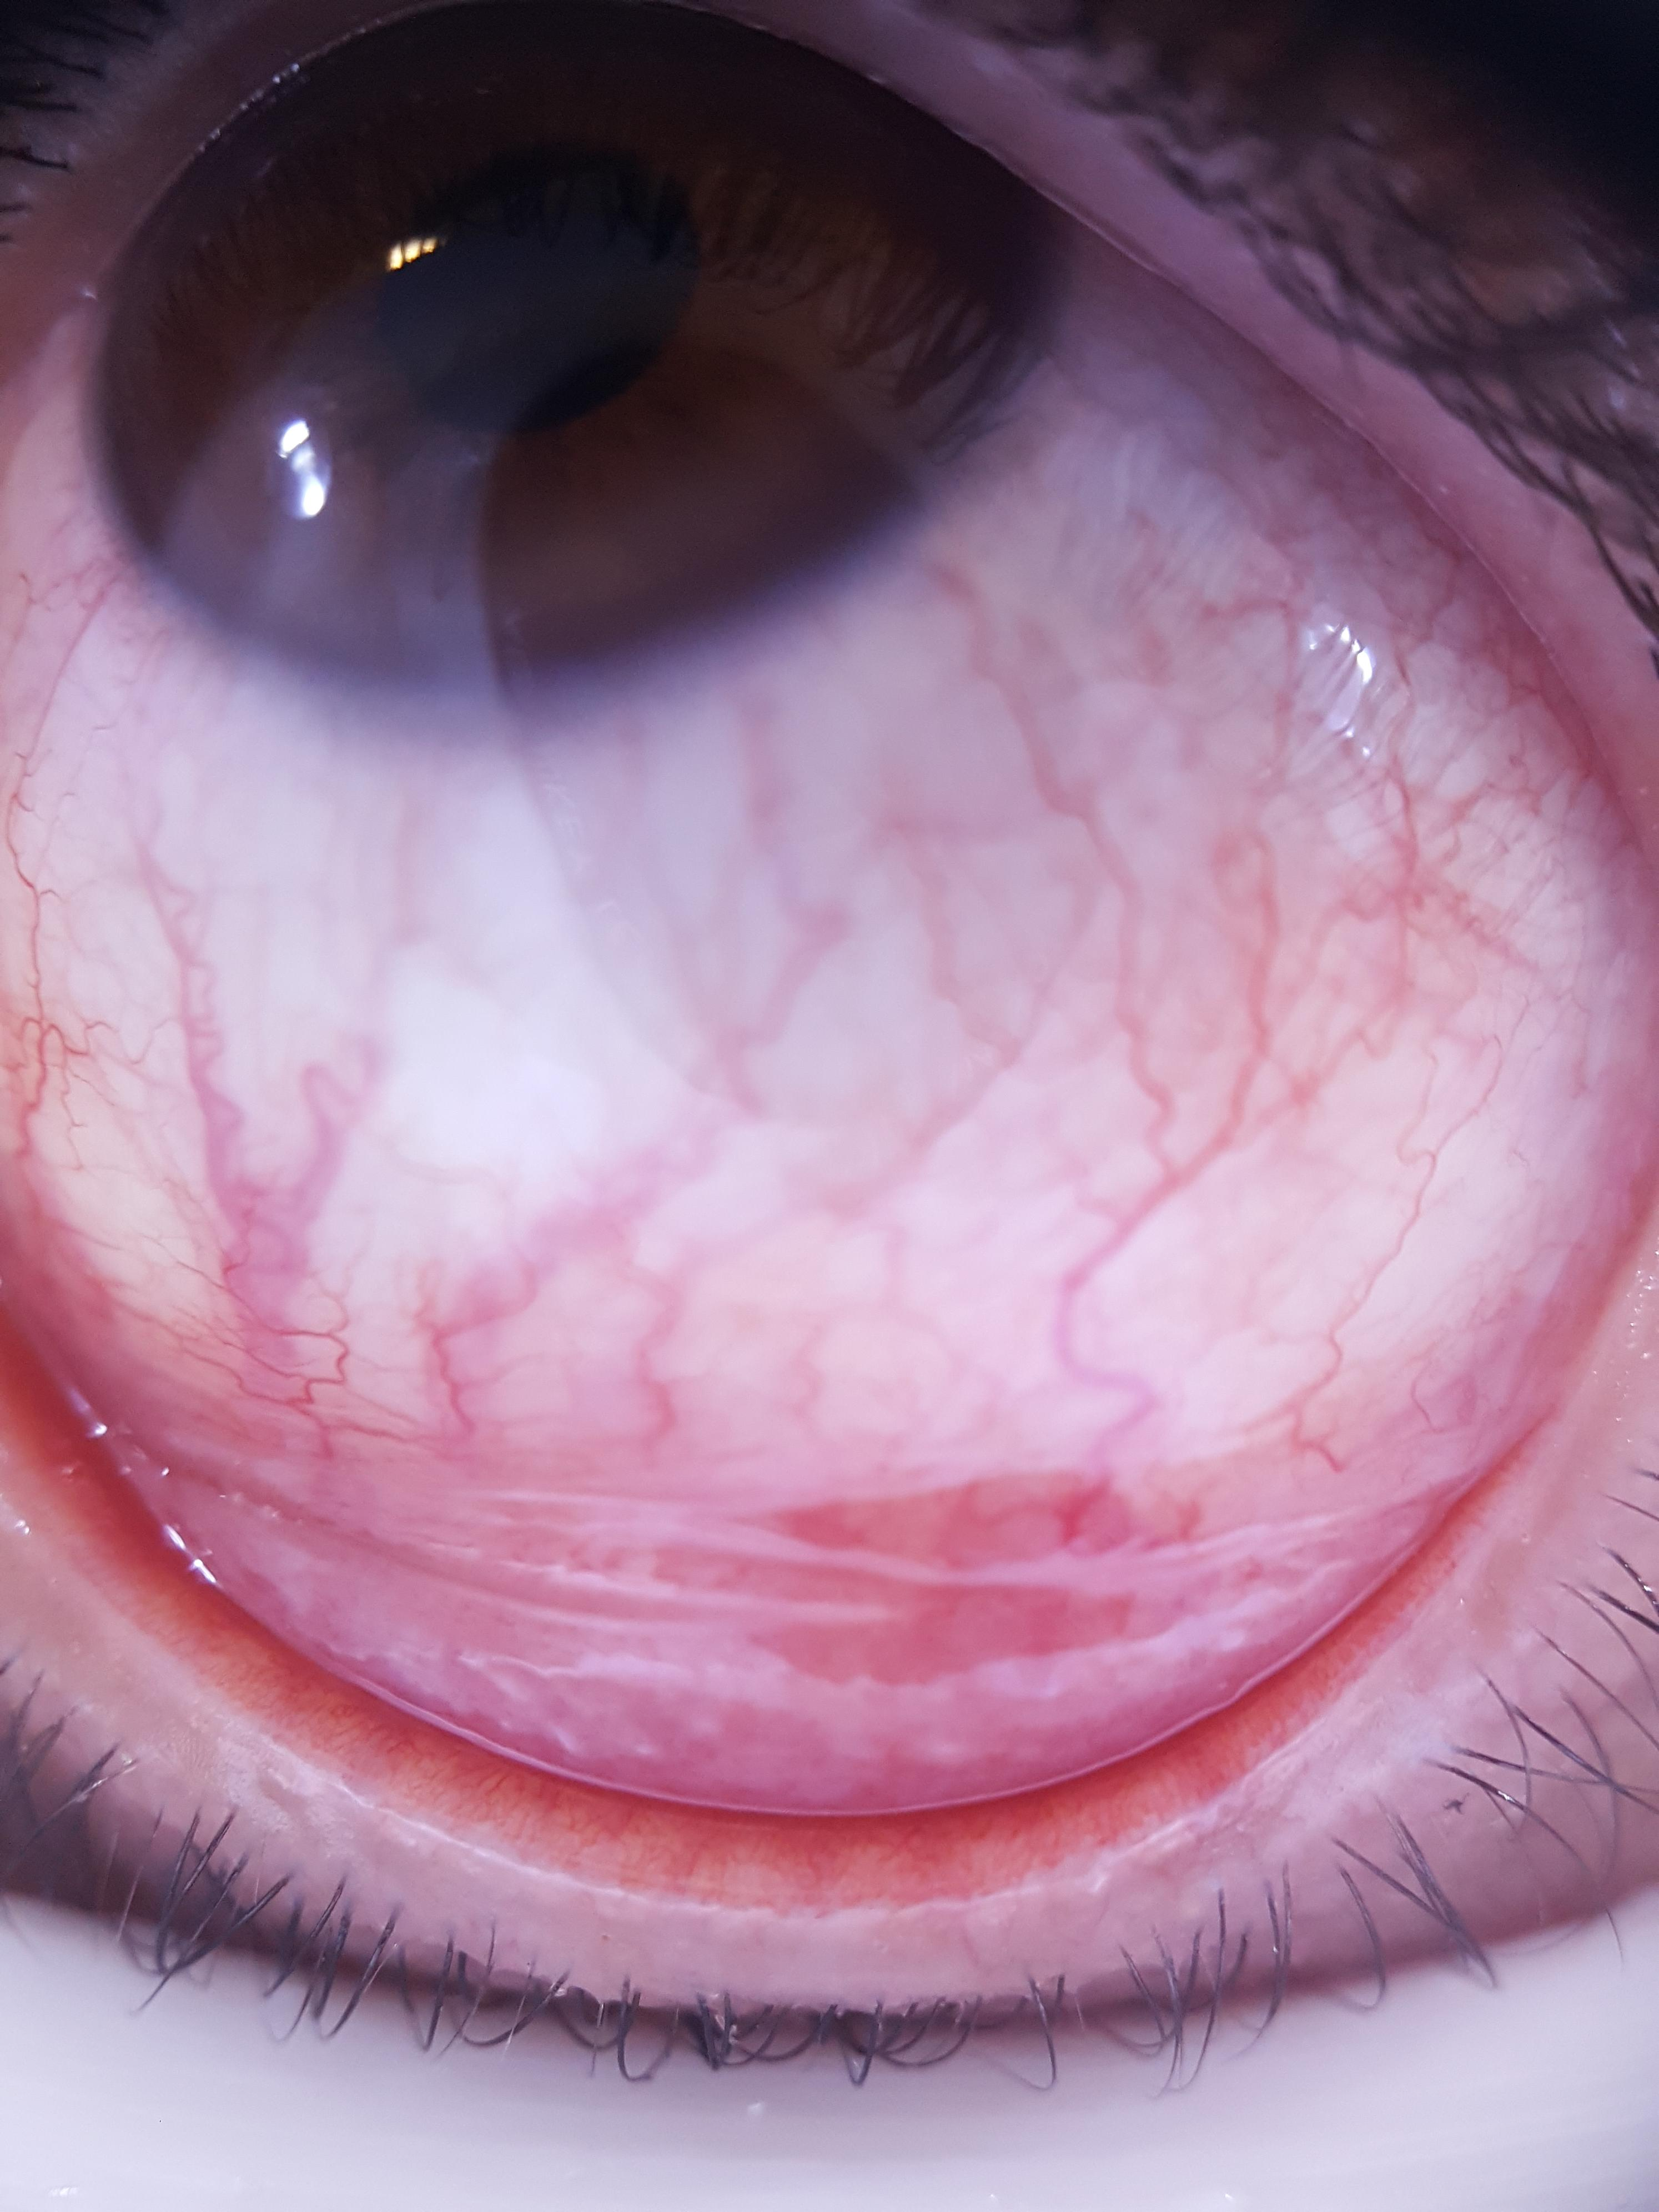forniceal: (9, 1247, 1553, 1815)
forniceal_palpebral: (0, 1247, 1563, 1902)
palpebral: (3, 1324, 1546, 1890)
